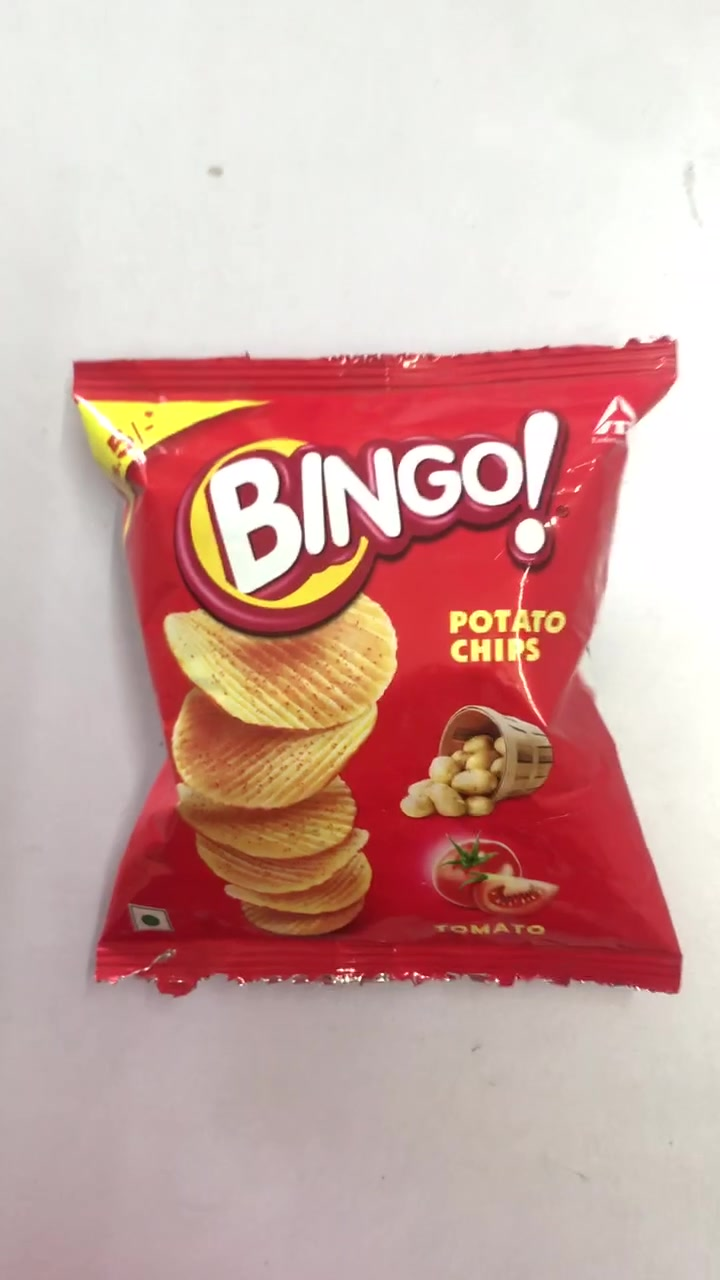Bingo: (78, 356, 688, 992)
